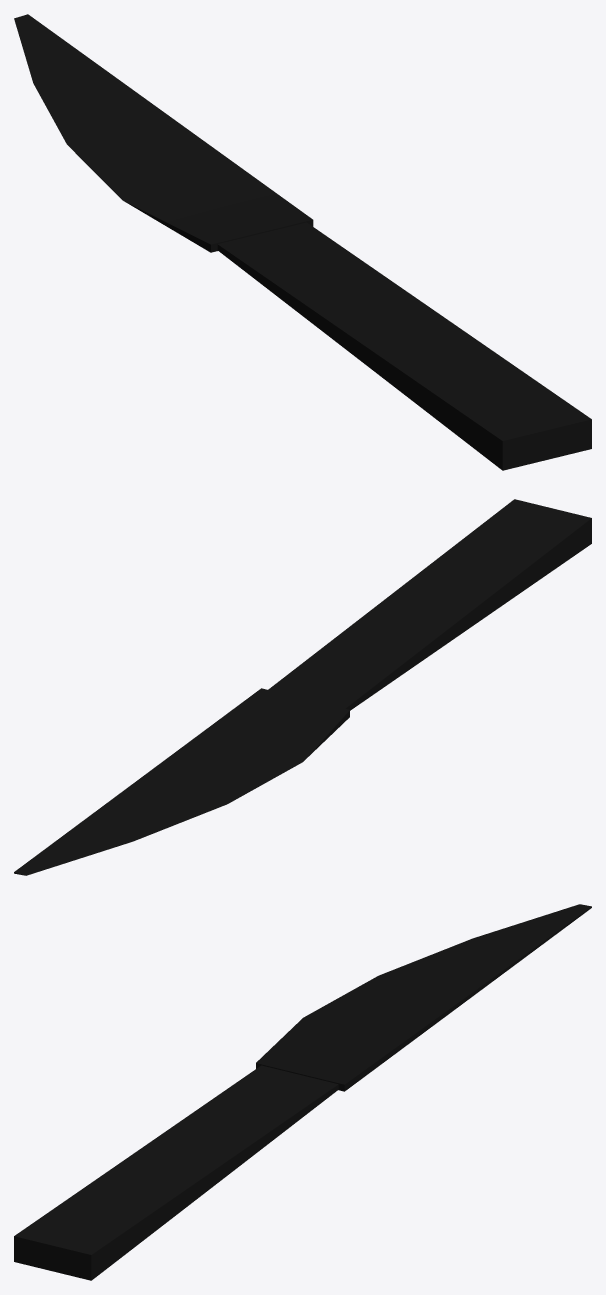
The model's file is Itr_Obj_Knife_05.FBX.
3 renders of one model, top to bottom at view 1: azimuth 30°, elevation 25°; view 2: azimuth 150°, elevation 25°; view 3: azimuth 330°, elevation 25°, orthographic. The views are drawn at different scales.
Parts seen in each view (by area): view 1: Itr_Obj_Knife_05; view 2: Itr_Obj_Knife_05; view 3: Itr_Obj_Knife_05.
Part boxes in pixels (x1,y1,x2,y2): Itr_Obj_Knife_05: (14,14,591,470); Itr_Obj_Knife_05: (14,499,591,875); Itr_Obj_Knife_05: (14,904,591,1280).
Bounding box in the file's own units: 0.5827 × 0.1387 × 4.84.
